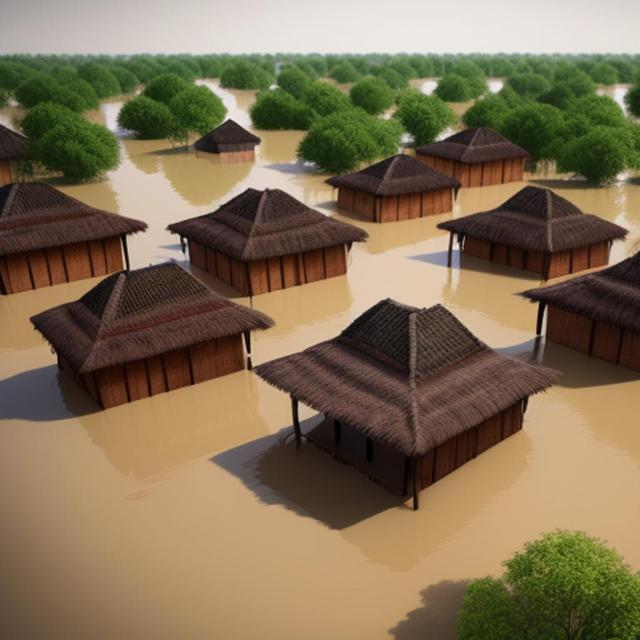flood: (0, 98, 640, 640), (202, 81, 254, 129), (439, 99, 475, 139), (598, 84, 632, 115), (0, 99, 26, 133), (321, 77, 352, 93), (410, 78, 441, 94), (489, 78, 506, 92), (381, 106, 394, 118)
house: (252, 292, 560, 514), (28, 260, 274, 425), (168, 182, 366, 314), (442, 175, 630, 291), (0, 171, 152, 296), (520, 245, 640, 380), (335, 152, 457, 230), (418, 122, 528, 197), (0, 122, 76, 186), (194, 113, 262, 163)
